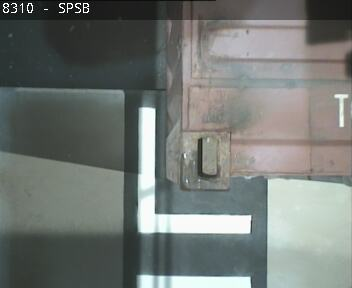groundmarker_1: (137, 105, 251, 287)
